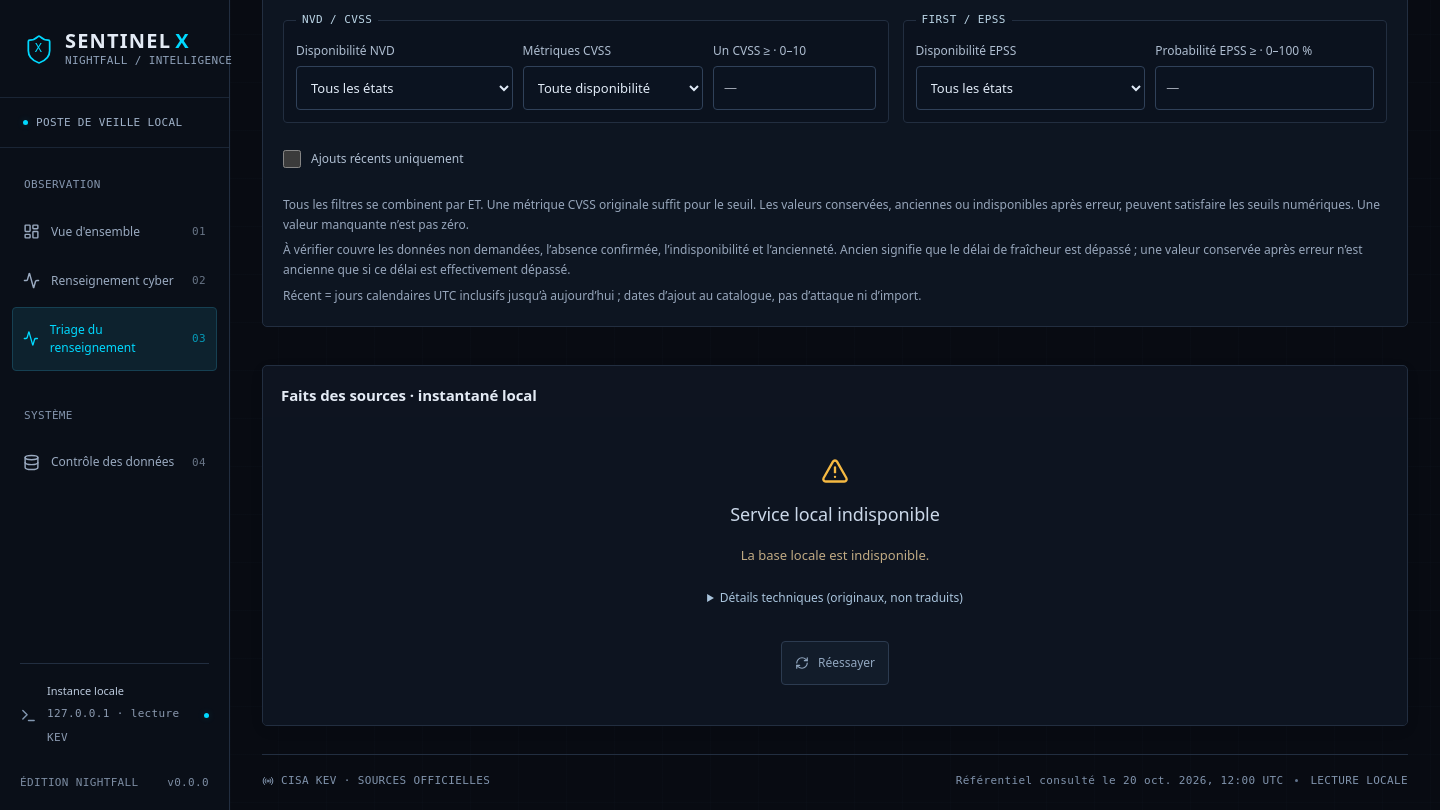
shows read failure without fabricated rows and retries with local GET only
The image size is (1440, 810).
(page scrolled)
Check: the message shows "La base locale est indisponible", box x1=741 y1=546 x2=929 y2=564
Click the button "Réessayer". click: click(835, 663)
box: x1=781 y1=641 x2=889 y2=685
(page scrolled)
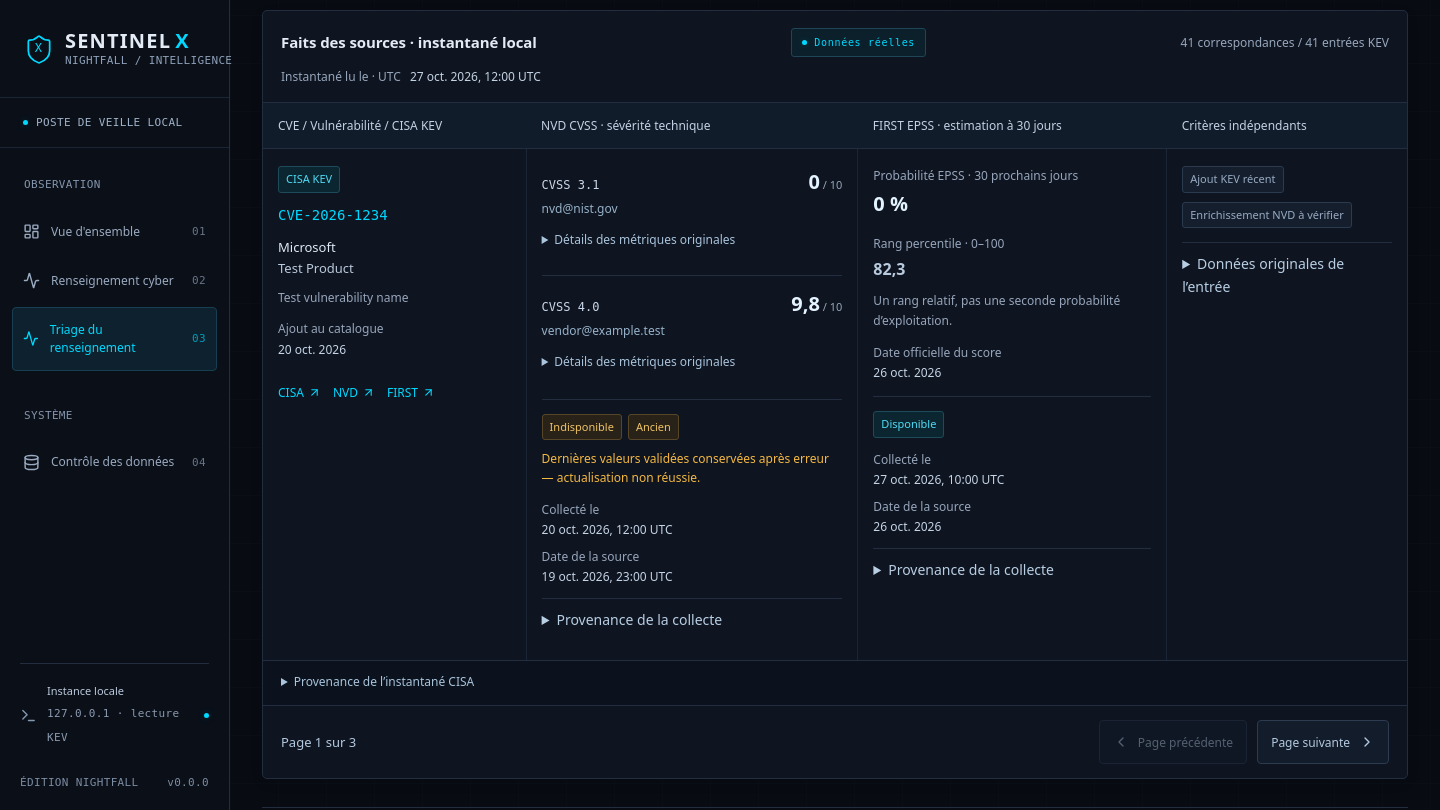
Check: the row with test id "triage-row-CVE-2026-1234" is shown, box x1=263 y1=149 x2=1407 y2=661
